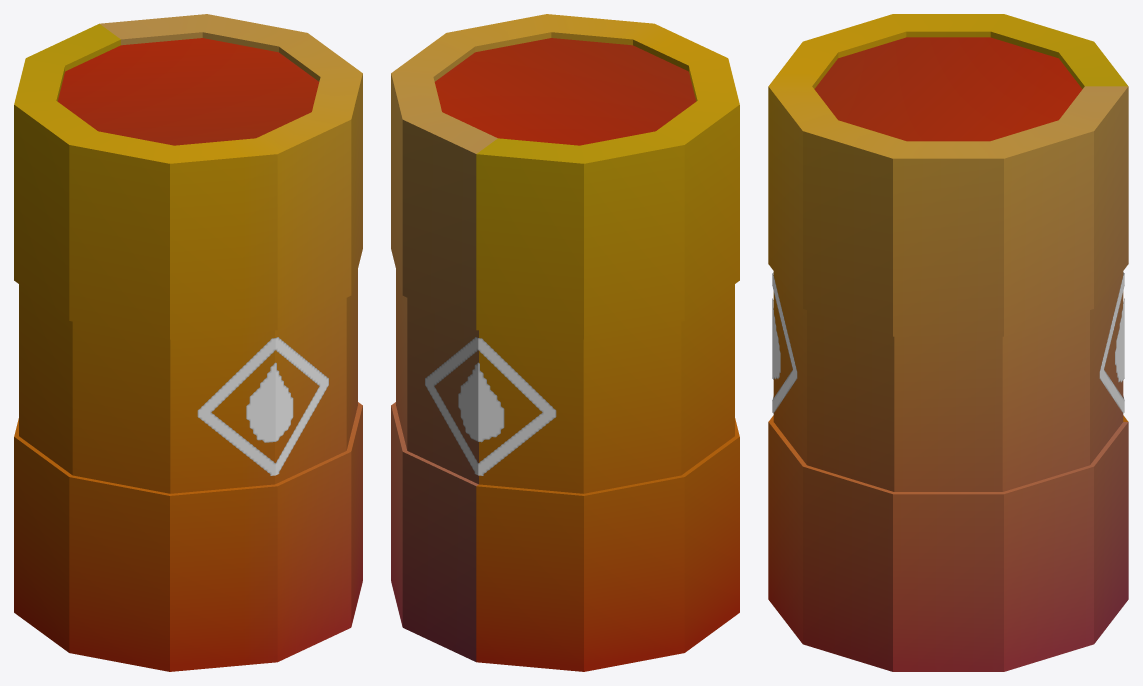
Rendered from Barrel_Exp1.fbx.
3 views of the same model, side by side, from view 1: azimuth 30°, elevation 25°; view 2: azimuth 150°, elevation 25°; view 3: azimuth 270°, elevation 25° (orthographic).
Visible parts, largest first — view 1: Barrel_Exp1; view 2: Barrel_Exp1; view 3: Barrel_Exp1.
Boxes of the visible parts, left/top/right/bottom form: Barrel_Exp1: left=14, top=14, right=362, bottom=671; Barrel_Exp1: left=391, top=14, right=739, bottom=671; Barrel_Exp1: left=768, top=14, right=1128, bottom=671.
Size of the model in its own units: 1.13 by 1.88 by 1.19.
